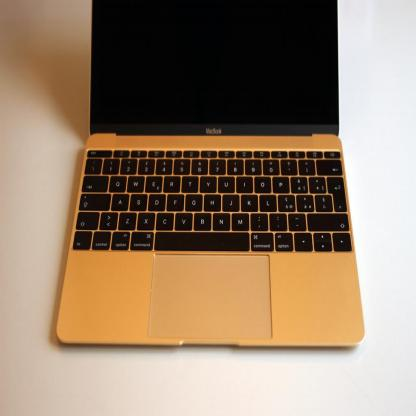board: (68, 0, 365, 347)
